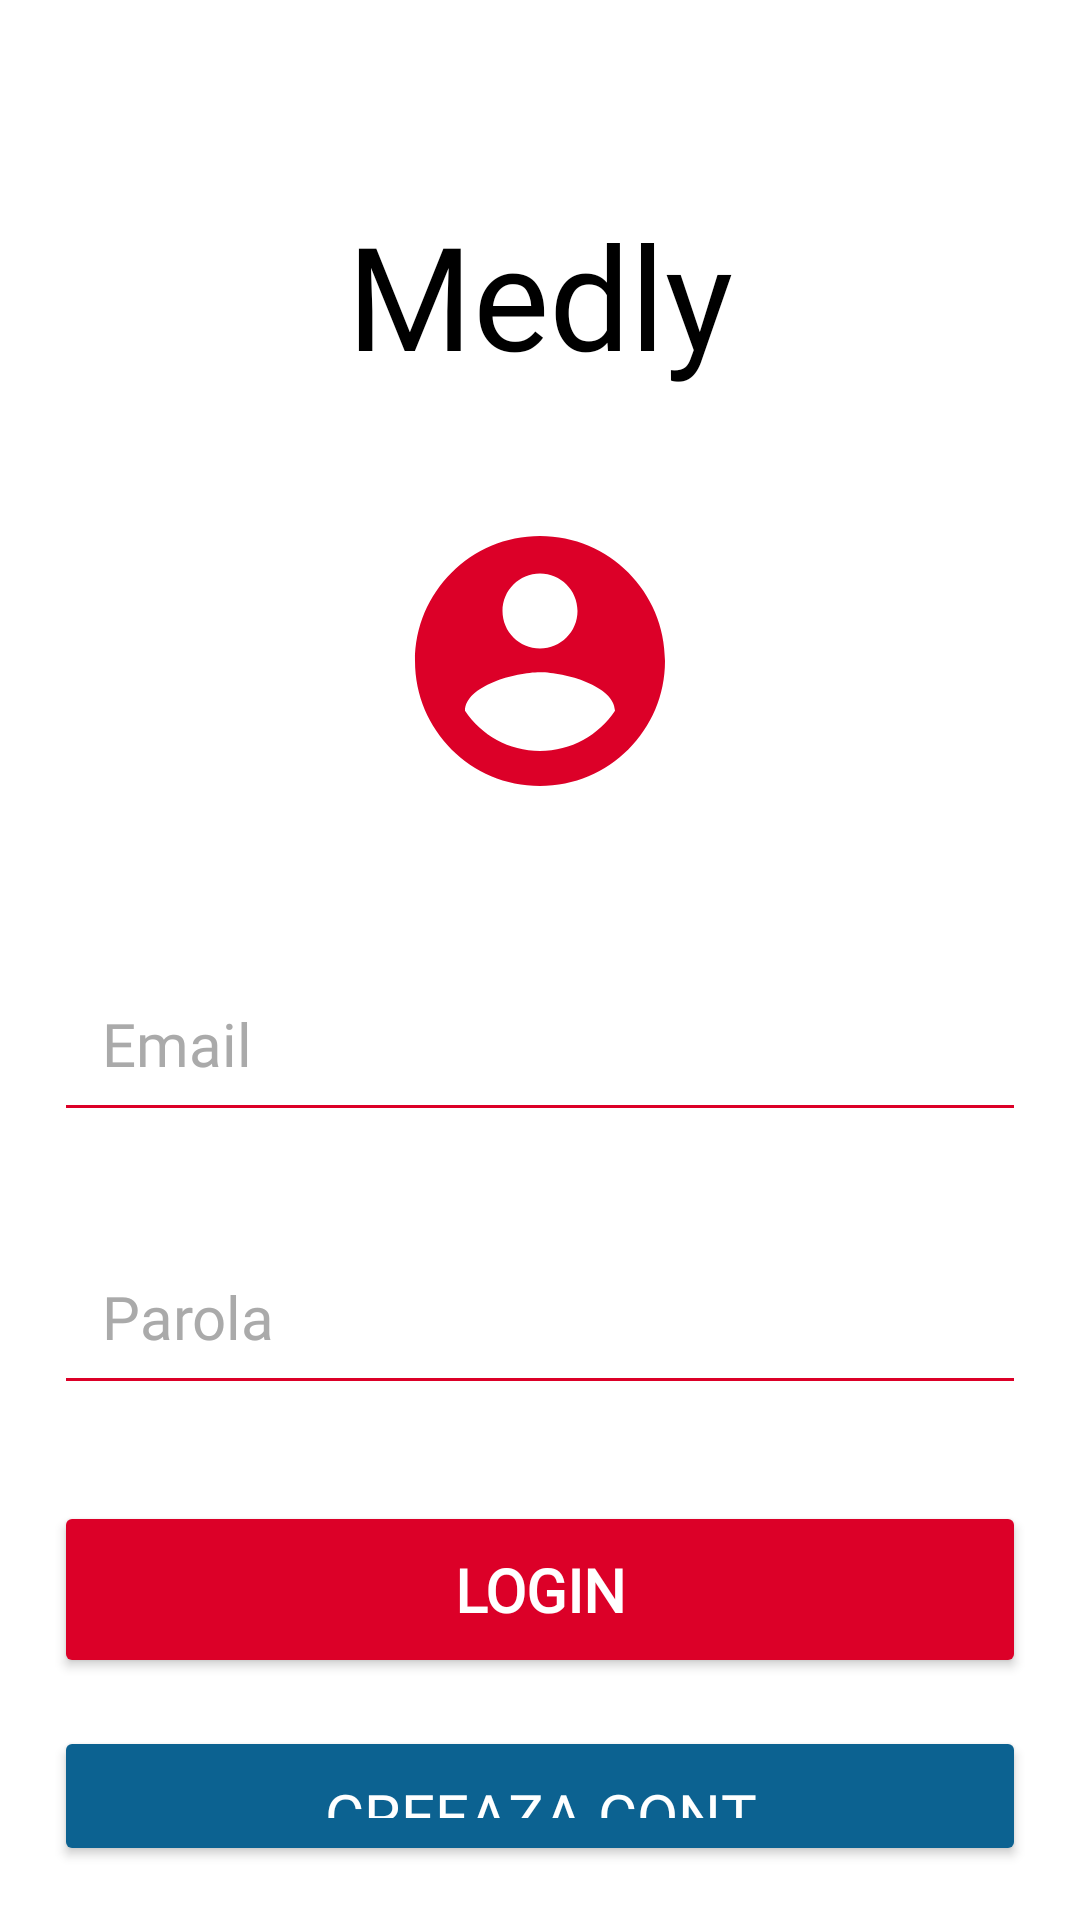

Named icons in this screenshot (1080x1920) and their bounding boxes, (x1, y1, x2, y2):
Anonymous User Image: (415, 536, 665, 786)
